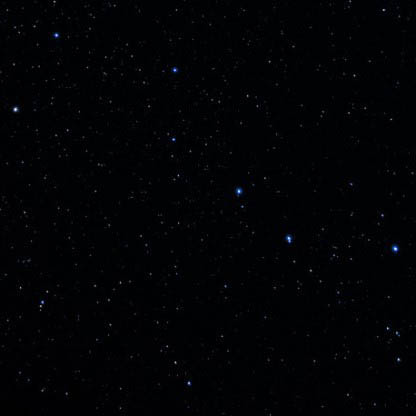Ursa Major: (382, 234, 408, 265), (43, 23, 69, 50), (1, 99, 27, 125), (161, 125, 186, 151), (161, 55, 184, 83), (225, 175, 245, 203), (275, 226, 296, 250)
